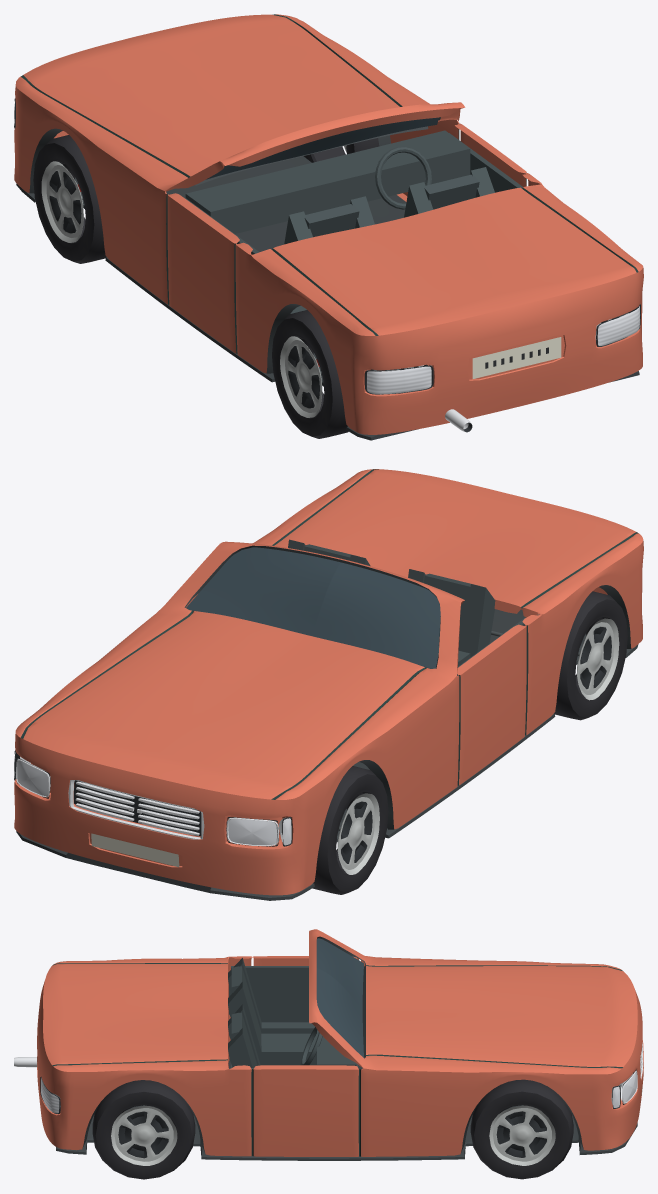
File: forge_open_roadster_lod1.fbx
The picture shows the model from 3 angles, top to bottom: view 1: azimuth 30°, elevation 25°; view 2: azimuth 150°, elevation 25°; view 3: azimuth 270°, elevation 25°; orthographic projection. The views are drawn at different scales.
Visible parts, largest first — view 1: Body, Wheel_RL_Mesh, Wheel_FL_Mesh, Wheel_FR_Mesh; view 2: Body, Wheel_FL_Mesh, Wheel_RL_Mesh; view 3: Body, Wheel_FR_Mesh, Wheel_RR_Mesh.
Part boxes in pixels (x1,y1,x2,y2): Body: (14,14,643,440); Wheel_RL_Mesh: (272,310,348,438); Wheel_FL_Mesh: (33,135,106,263); Wheel_FR_Mesh: (304,138,379,162); Body: (14,469,643,900); Wheel_FL_Mesh: (312,766,388,894); Wheel_RL_Mesh: (554,591,627,720); Body: (14,929,643,1160); Wheel_FR_Mesh: (470,1079,573,1179); Wheel_RR_Mesh: (92,1080,195,1179).
Bounding box in the file's own units: 149 × 96.59 × 346.
